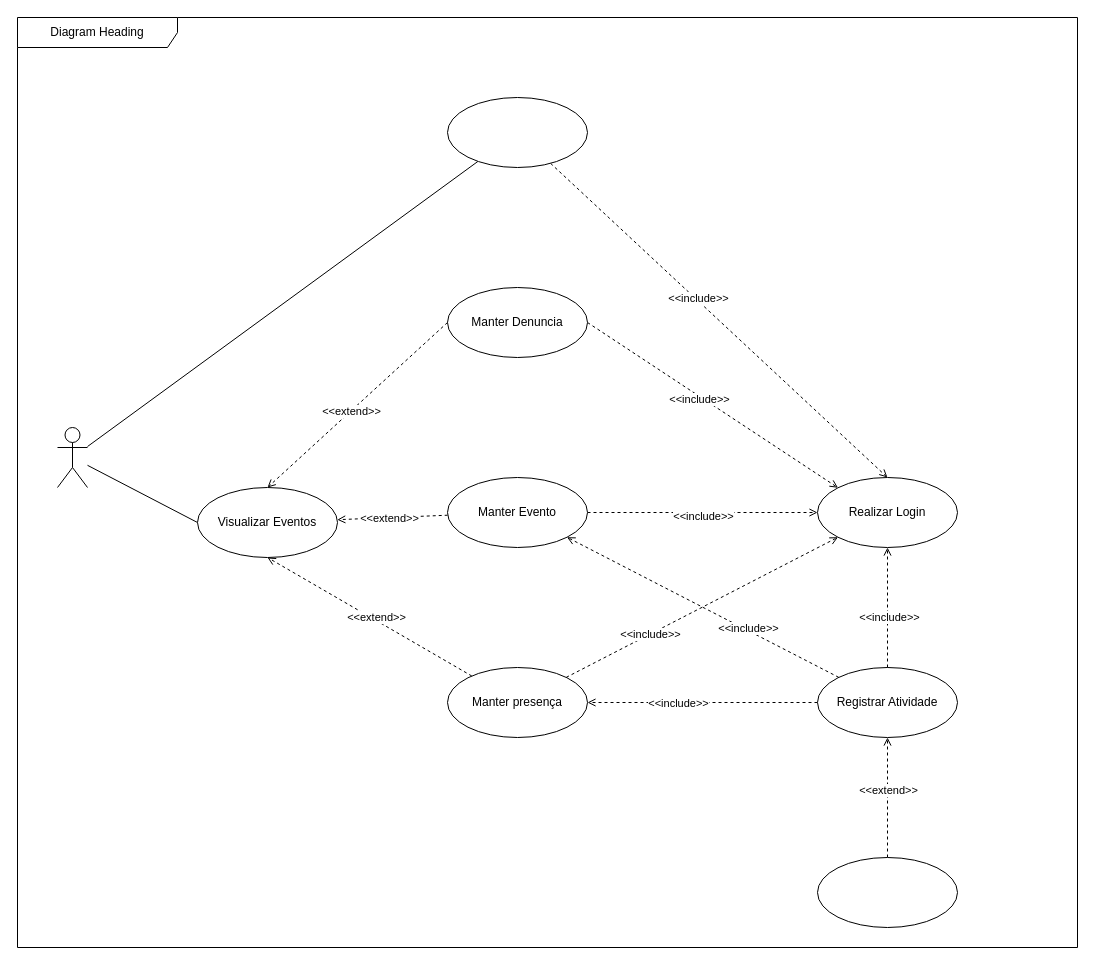
The diagram is 1095 pixels wide and 965 high, and some of its shapes have lost their labels. Each missing label, with the box of its shape:
Estudante: (56, 426, 88, 488)
Manter Pontuação: (816, 856, 958, 928)
Manter Usuário: (446, 96, 588, 168)
